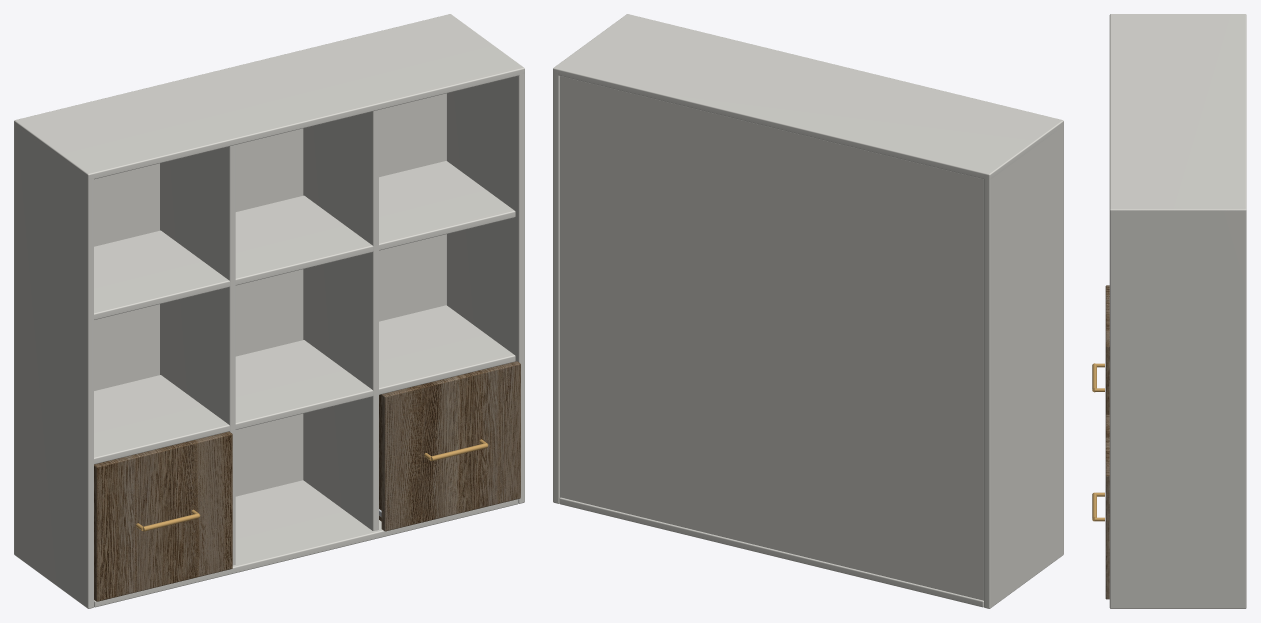
The model's file is detail-cube.glb.
The picture shows the model from 3 angles, left to right: view 1: azimuth 30°, elevation 25°; view 2: azimuth 150°, elevation 25°; view 3: azimuth 270°, elevation 25°; orthographic projection. The views are drawn at different scales.
Parts seen in each view (by area): view 1: 左侧板, 顶板, 嵌入式背板, 竖向格板.001, 可调层板.001, 可调层板, 抽屉独立面板.001, 抽屉独立面板, 右侧板, 竖向格板, 底板; view 2: 嵌入式背板, 顶板, 左侧板, 底板, 右侧板; view 3: 右侧板, 顶板, 抽屉独立面板.001, 抽屉独立面板.
Part boxes in pixels (left/top/right/bottom): 左侧板: left=14, top=120, right=93, bottom=608; 顶板: left=14, top=14, right=524, bottom=179; 嵌入式背板: left=94, top=93, right=446, bottom=496; 竖向格板.001: left=303, top=110, right=378, bottom=530; 可调层板.001: left=94, top=161, right=515, bottom=319; 可调层板: left=94, top=305, right=515, bottom=464; 抽屉独立面板.001: left=381, top=361, right=520, bottom=531; 抽屉独立面板: left=94, top=431, right=232, bottom=601; 右侧板: left=447, top=28, right=524, bottom=503; 竖向格板: left=160, top=145, right=235, bottom=565; 底板: left=94, top=480, right=518, bottom=607; 嵌入式背板: left=560, top=76, right=983, bottom=600; 顶板: left=553, top=14, right=1062, bottom=179; 左侧板: left=984, top=120, right=1063, bottom=608; 底板: left=559, top=497, right=983, bottom=607; 右侧板: left=553, top=65, right=559, bottom=503; 右侧板: left=1109, top=207, right=1246, bottom=608; 顶板: left=1109, top=14, right=1246, bottom=213; 抽屉独立面板.001: left=1105, top=414, right=1109, bottom=599; 抽屉独立面板: left=1105, top=285, right=1109, bottom=414.
Size of the model in its own units: 1.22 by 1.16 by 0.406.
Materials: 4 (1 with a texture image).
